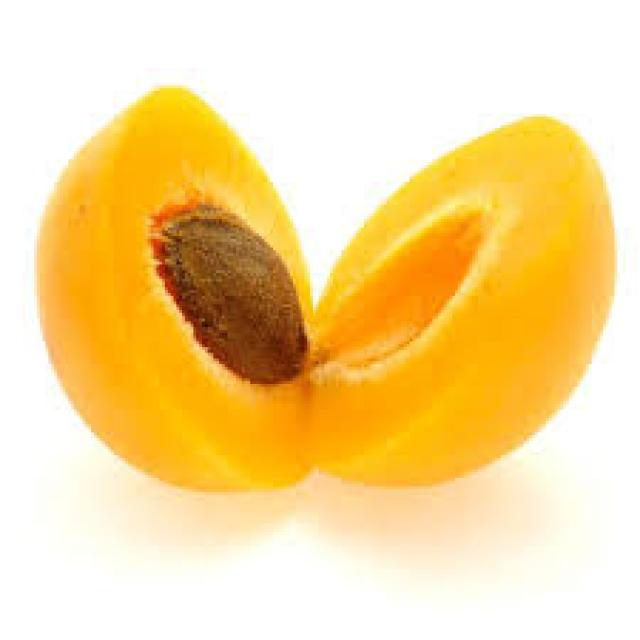kayisi: (355, 136, 602, 490)
kayisi-cekirdegi: (143, 197, 339, 398)
